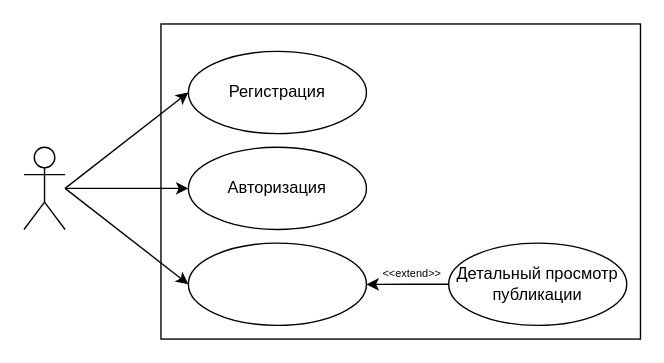
This 664x363 diagram has some shape labels left out. Each missing label, with the box of its shape:
Гость: (23, 146, 65, 229)
Просмотр списка публикаций: (187, 242, 366, 325)
